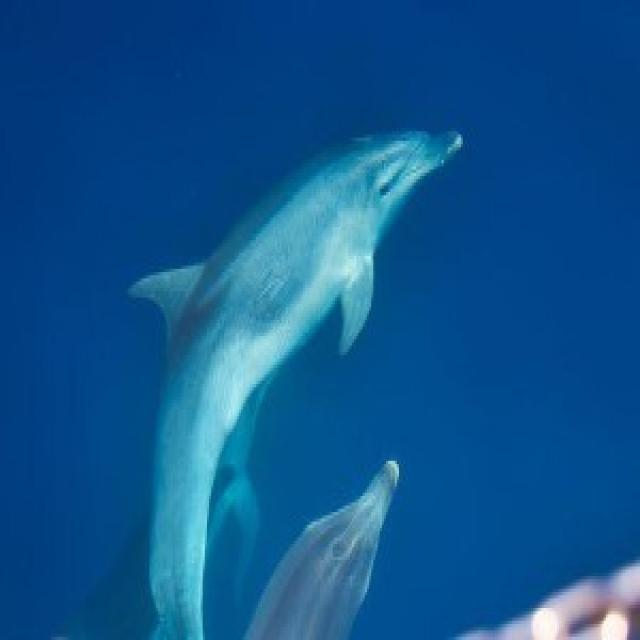Dolphin: (83, 106, 475, 640), (217, 437, 407, 640)
